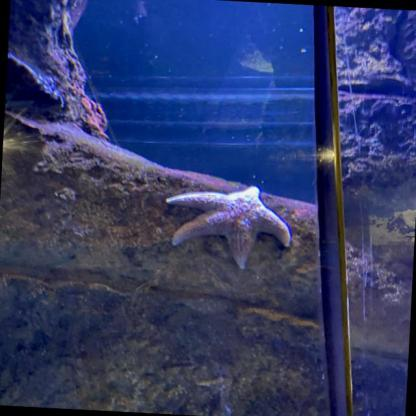starfish: (158, 179, 292, 265)
